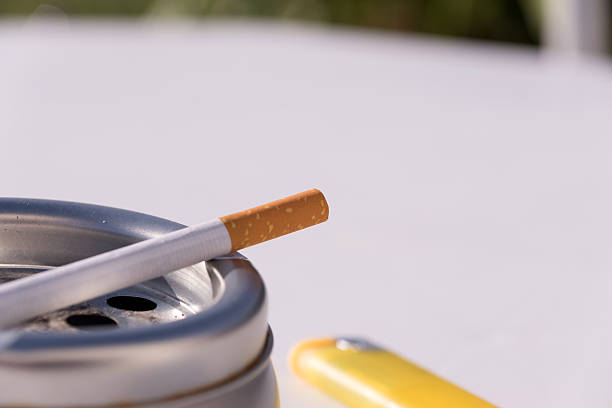cigarette: (0, 186, 333, 330)
